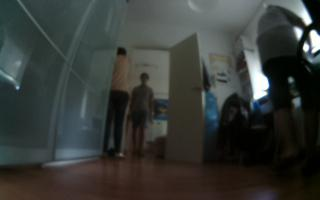person: (251, 2, 320, 180), (99, 44, 132, 162), (127, 71, 158, 160)
